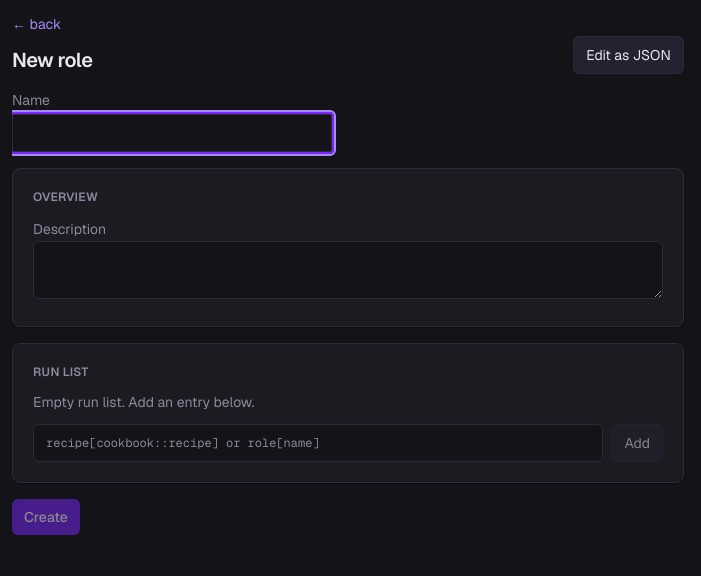
Test case: CreateObjectForm › rejects an invalid role name
Type "bad.name" into the field labelled "Name" at (172, 133), box [12, 114, 332, 152]
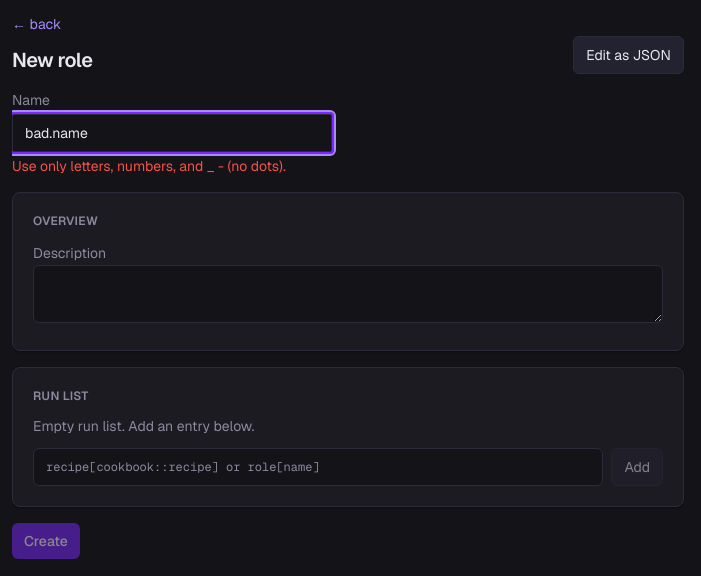
Expected: the button "Create" is disabled, [12, 523, 80, 559]
Result: the message shows "no dots" at [12, 157, 286, 175]
